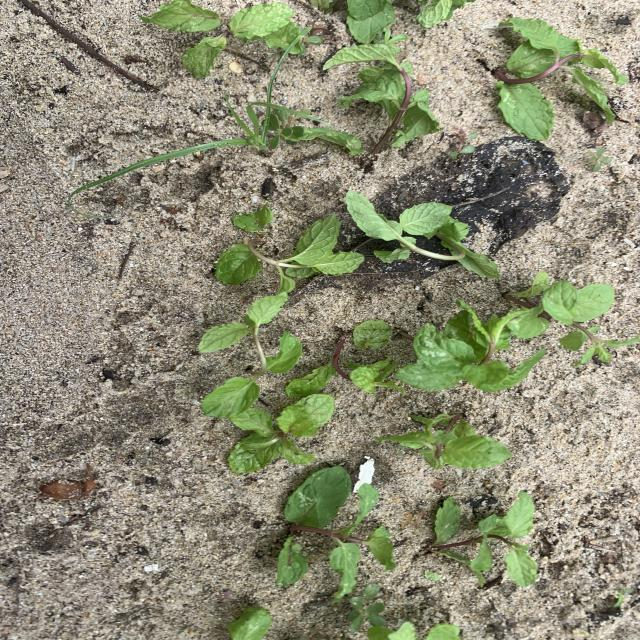crop: (493, 17, 626, 139), (281, 466, 394, 600), (323, 29, 440, 157), (396, 297, 547, 391), (141, 0, 312, 78), (347, 192, 499, 277), (199, 294, 301, 416), (216, 215, 363, 298), (509, 274, 639, 364), (426, 491, 537, 586), (228, 392, 333, 472), (295, 320, 402, 397), (375, 413, 511, 467), (345, 1, 394, 42), (417, 1, 474, 27), (228, 607, 270, 639), (231, 204, 273, 232), (368, 620, 416, 639), (425, 623, 462, 640), (123, 165, 131, 171)
weed: (66, 32, 360, 206), (348, 585, 386, 630), (269, 114, 305, 150), (451, 133, 477, 159), (586, 148, 611, 171), (612, 589, 632, 607), (425, 571, 440, 579)
